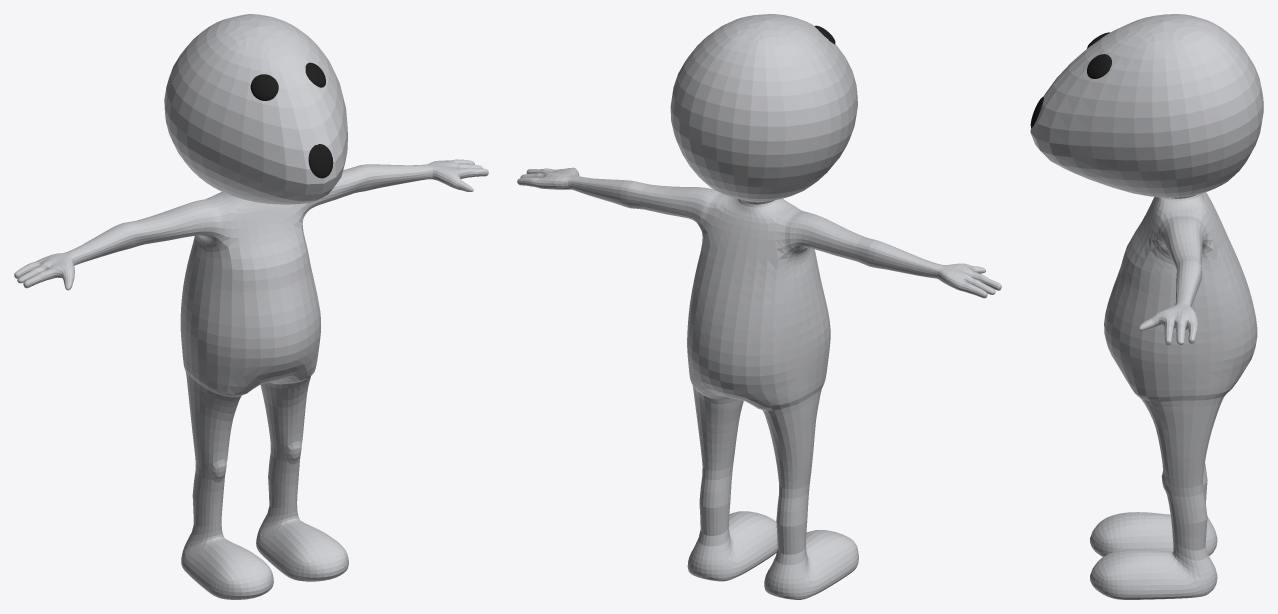
Rendered from ZooZoo.fbx.
3 renders of one model, left to right at view 1: azimuth 30°, elevation 25°; view 2: azimuth 150°, elevation 25°; view 3: azimuth 270°, elevation 25°, orthographic. The views are drawn at different scales.
Parts seen in each view (by area): view 1: nodes[2], nodes[0], nodes[1]; view 2: nodes[2]; view 3: nodes[2], nodes[0].
Part boxes in pixels (left/top/right/bottom): nodes[2]: left=14, top=14, right=488, bottom=599; nodes[0]: left=250, top=62, right=325, bottom=100; nodes[1]: left=308, top=144, right=333, bottom=178; nodes[2]: left=517, top=14, right=1001, bottom=599; nodes[2]: left=1030, top=14, right=1263, bottom=599; nodes[0]: left=1087, top=32, right=1111, bottom=78.
Bounding box in the file's own units: 1.46 × 1.62 × 0.6262.
1 material, 1 textured.
